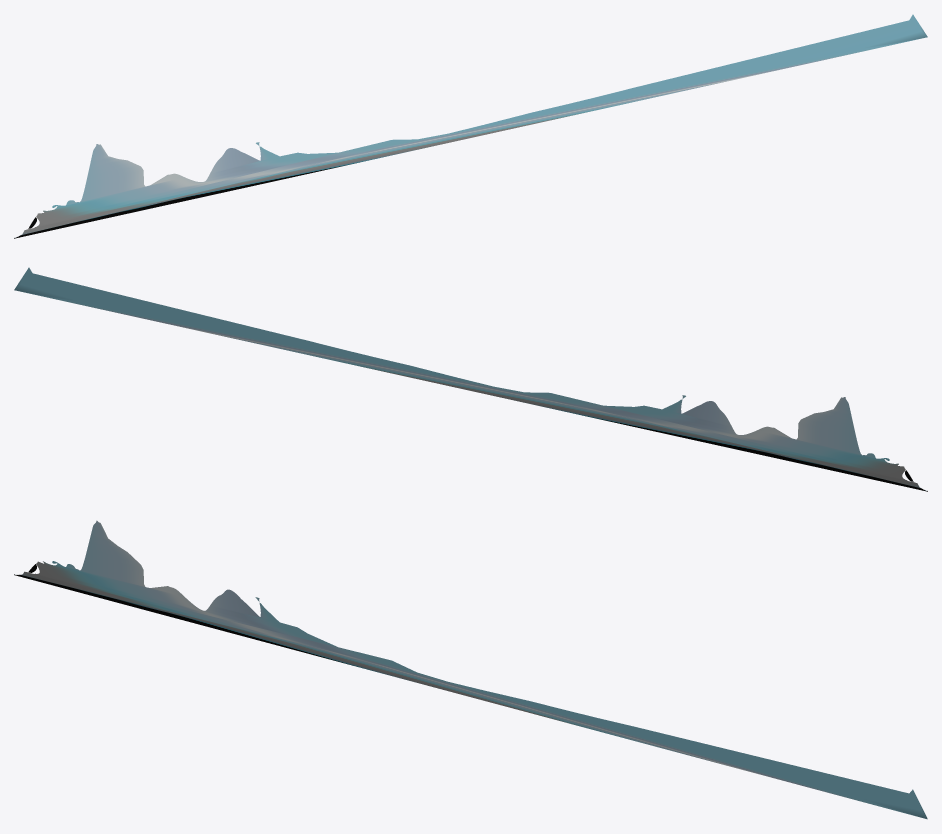
File: car_village.obj
The picture shows the model from 3 angles, top to bottom: view 1: azimuth 30°, elevation 25°; view 2: azimuth 150°, elevation 25°; view 3: azimuth 330°, elevation 25°; orthographic projection.
Parts seen in each view (by area): view 1: TerrainCurve; view 2: TerrainCurve; view 3: TerrainCurve.
Boxes of the visible parts, x1,y1,x2,y2 form: TerrainCurve: (14,14,927,238); TerrainCurve: (14,267,927,491); TerrainCurve: (14,520,927,819).
Size of what is drawn, in the model's own units: 3.41e+07 by 3431431 by 3796.
1 material, 1 textured.
